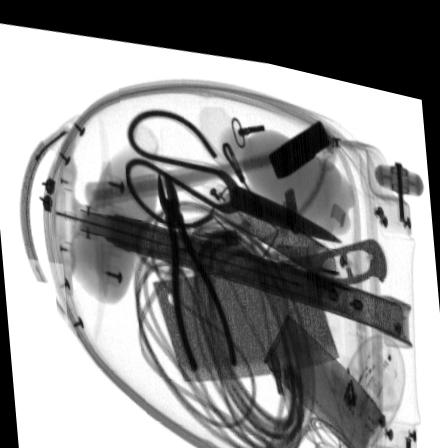Hammer: (85, 103, 332, 207)
Knife: (152, 219, 388, 373)
Pliers: (156, 163, 239, 366)
Scissors: (122, 101, 342, 226)
